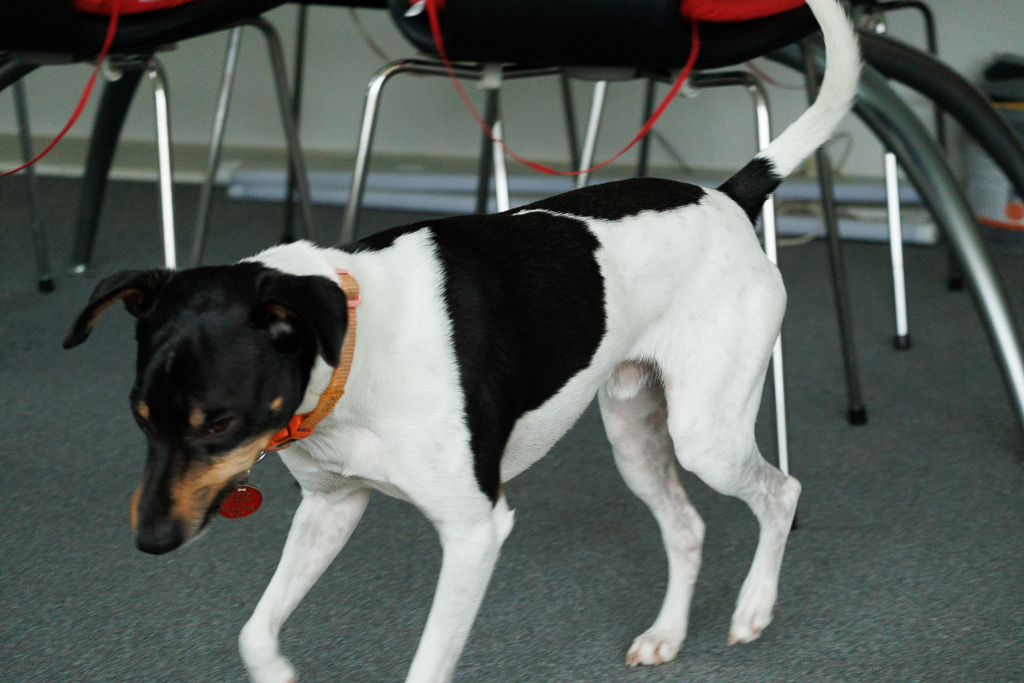Dog: (53, 0, 870, 683)
